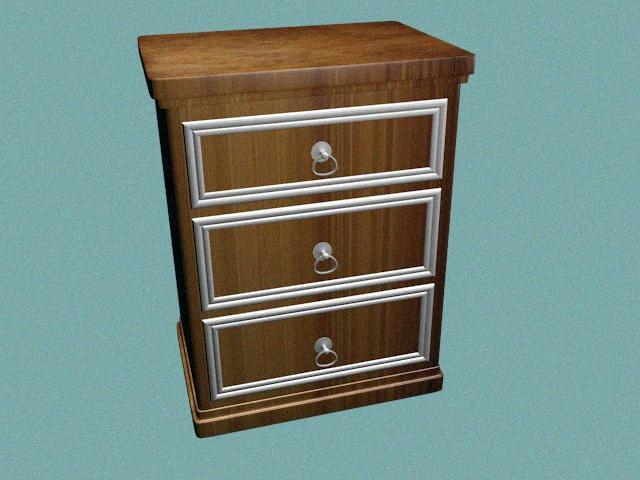cabinet_door: (196, 203, 438, 295), (187, 110, 446, 193), (206, 301, 432, 381)
handle: (303, 134, 344, 181), (302, 233, 343, 279), (306, 328, 343, 371)
